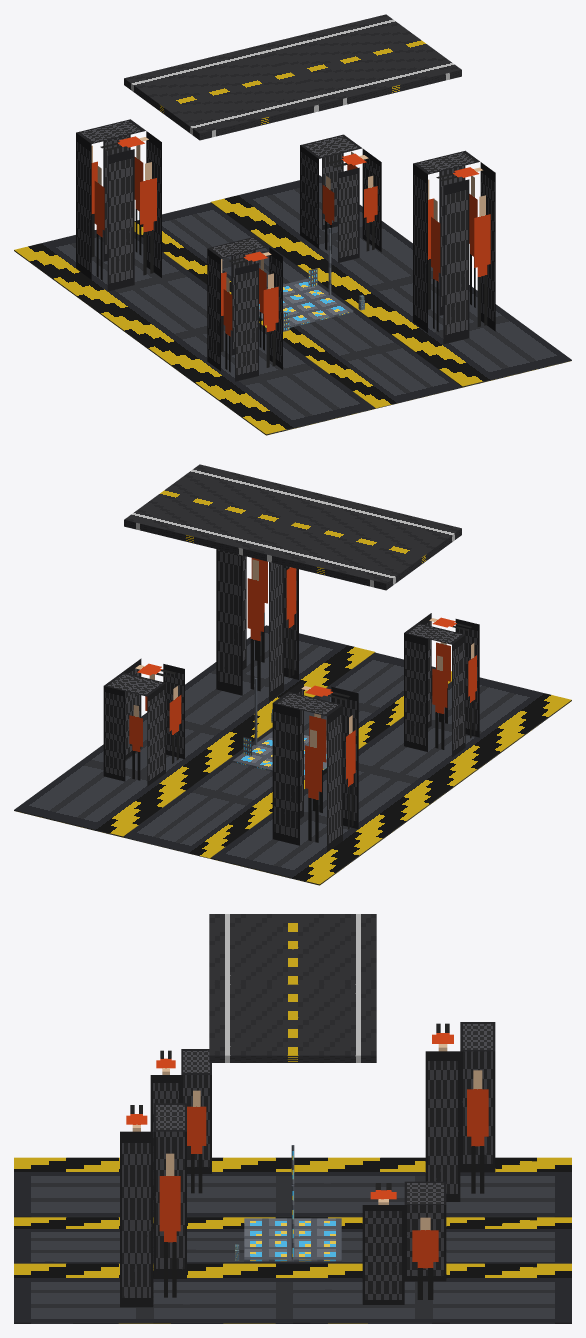
Rendered from tokyo3_layout.obj.
3 renders of one model, top to bottom at view 1: azimuth 30°, elevation 25°; view 2: azimuth 150°, elevation 25°; view 3: azimuth 270°, elevation 25°, orthographic. The views are drawn at different scales.
Visible parts, largest first — view 1: sidewalk_l, sidewalk_r, street_main, building_d, building_a, gate_l, gate_r, building_c, building_b, elevator_platform; view 2: sidewalk_l, sidewalk_r, street_main, building_a, gate_l, gate_r, building_d, building_c, building_b, elevator_platform; view 3: sidewalk_r, sidewalk_l, street_main, gate_r, building_d, gate_l, building_a, building_b, building_c, elevator_platform.
Boxes of the visible parts, left/top/right/bottom form: sidewalk_l: left=14, top=229, right=375, bottom=435; sidewalk_r: left=210, top=175, right=571, bottom=387; street_main: left=134, top=202, right=462, bottom=408; building_d: left=413, top=150, right=495, bottom=344; building_a: left=76, top=119, right=161, bottom=291; gate_l: left=124, top=46, right=330, bottom=140; gate_r: left=255, top=14, right=461, bottom=108; building_c: left=207, top=236, right=282, bottom=381; building_b: left=300, top=134, right=381, bottom=262; elevator_platform: left=259, top=278, right=353, bottom=327; sidewalk_l: left=210, top=677, right=571, bottom=885; sidewalk_r: left=14, top=625, right=375, bottom=837; street_main: left=123, top=652, right=451, bottom=858; building_a: left=272, top=680, right=358, bottom=852; gate_l: left=255, top=496, right=461, bottom=590; gate_r: left=124, top=464, right=330, bottom=558; building_d: left=216, top=549, right=298, bottom=701; building_c: left=404, top=613, right=479, bottom=757; building_b: left=103, top=658, right=184, bottom=786; elevator_platform: left=232, top=731, right=326, bottom=779; sidewalk_r: left=14, top=1263, right=571, bottom=1323; sidewalk_l: left=14, top=1157, right=571, bottom=1217; street_main: left=14, top=1217, right=571, bottom=1263; gate_r: left=209, top=984, right=376, bottom=1062; building_d: left=120, top=1103, right=186, bottom=1307; gate_l: left=209, top=914, right=376, bottom=984; building_a: left=425, top=1022, right=495, bottom=1201; building_b: left=362, top=1181, right=446, bottom=1304; building_c: left=150, top=1049, right=211, bottom=1199; elevator_platform: left=244, top=1218, right=341, bottom=1261.
Size of the model in its own units: 14 by 10.15 by 20.
16 materials, 16 textured.
